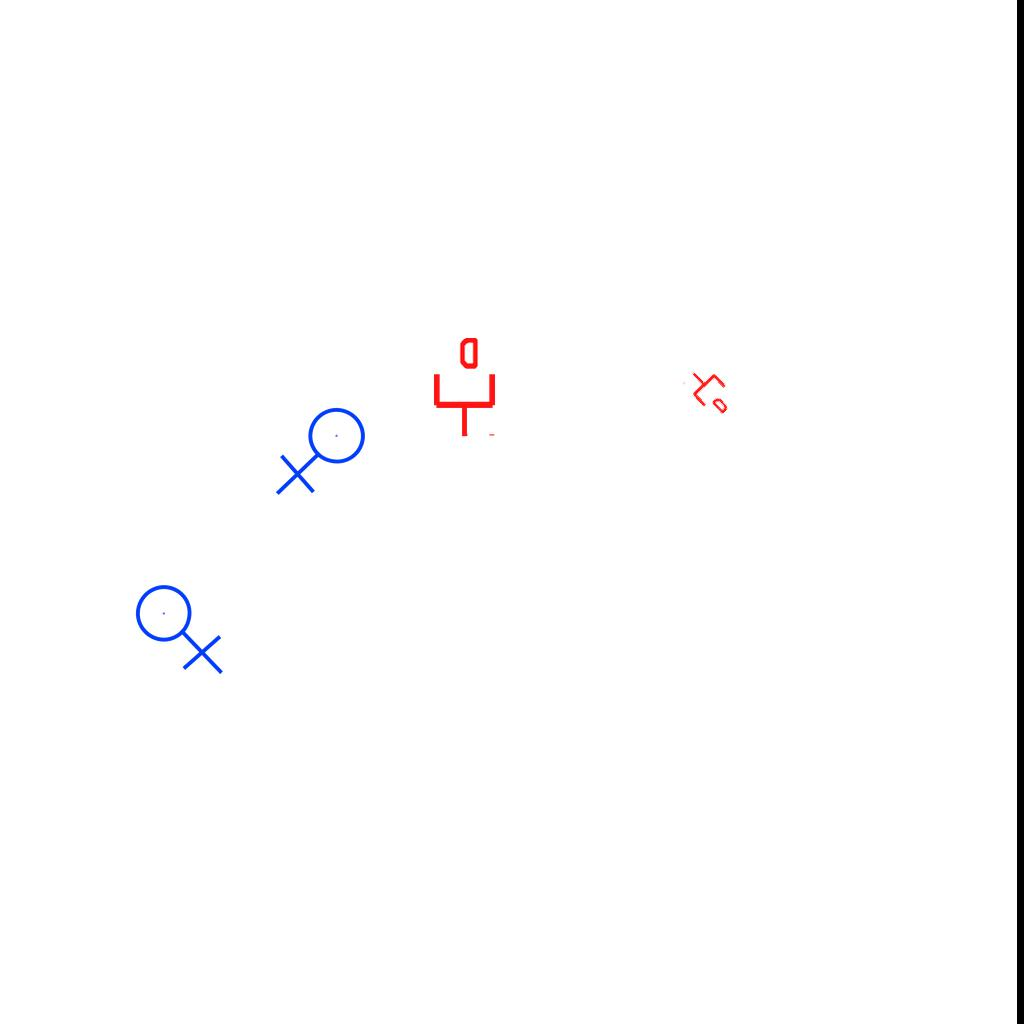Datenanschluss_einfach: (430, 338, 499, 438), (680, 361, 740, 421)
Elektroanschluss_allgemein_230V_Geraeteanschlussdose_230V: (275, 406, 374, 500), (134, 576, 228, 675)
